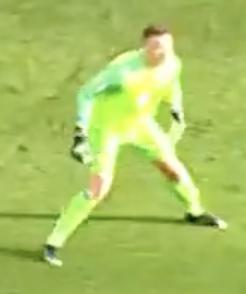goalkeeper: (20, 11, 246, 294)
